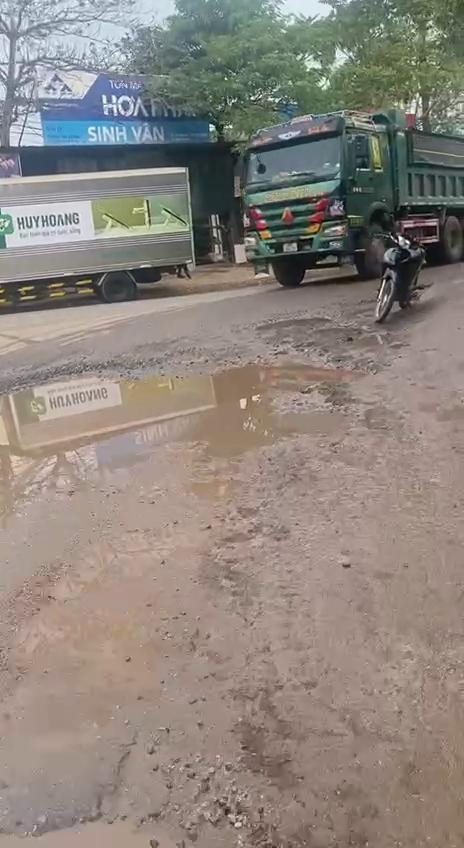pothole: (0, 320, 376, 628), (0, 766, 267, 848)
